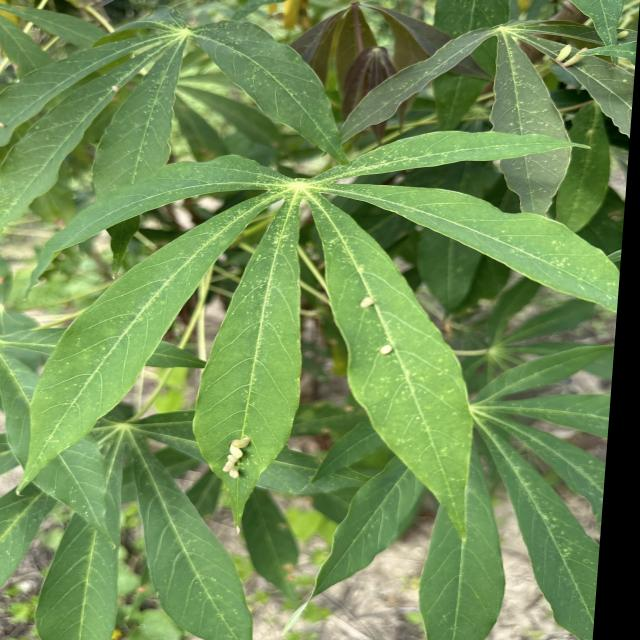Mosca: (218, 429, 264, 496), (547, 40, 597, 71), (367, 333, 403, 363), (356, 279, 378, 307), (0, 111, 16, 143), (99, 79, 129, 93)
